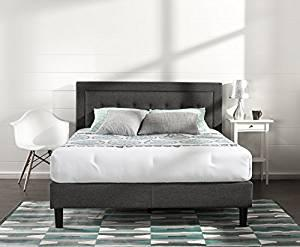bed: (47, 75, 262, 231)
